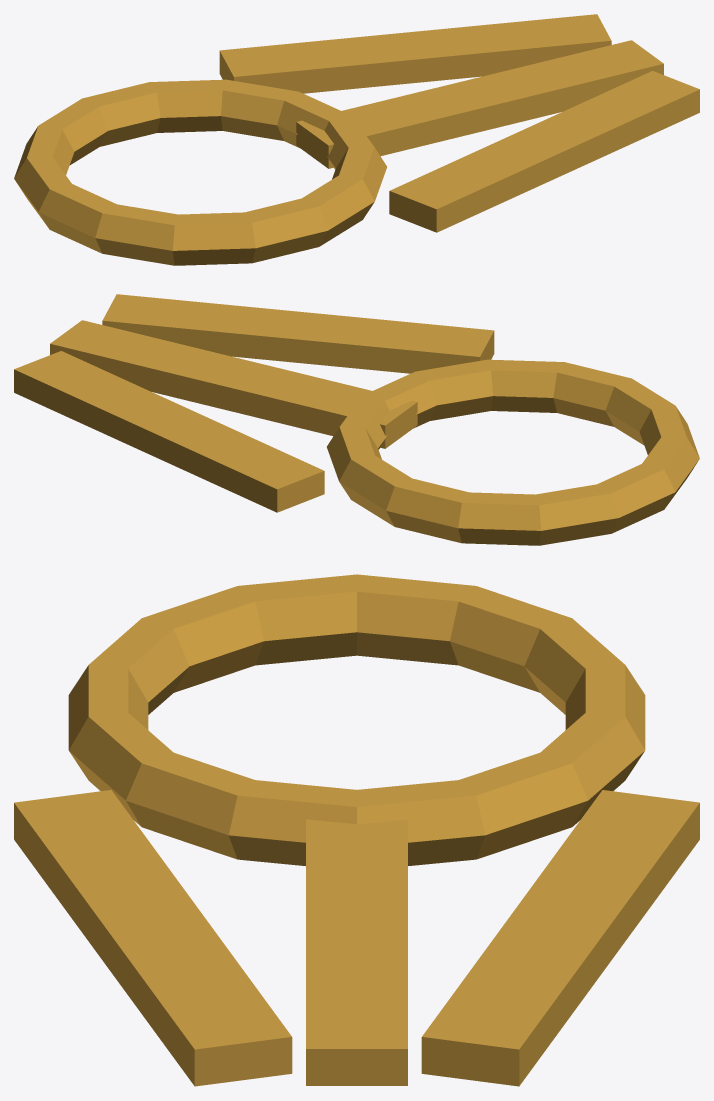
File: carwash_meter_key.glb
3 renders of one model, top to bottom at view 1: azimuth 30°, elevation 25°; view 2: azimuth 150°, elevation 25°; view 3: azimuth 270°, elevation 25°, orthographic. The views are drawn at different scales.
Parts seen in each view (by area): view 1: key_meter_key_brass, ring_meter_key_brass; view 2: key_meter_key_brass, ring_meter_key_brass; view 3: key_meter_key_brass, ring_meter_key_brass.
Boxes of the visible parts, x1,y1,x2,y2 form: key_meter_key_brass: (219,14,699,232); ring_meter_key_brass: (14,79,386,265); key_meter_key_brass: (14,294,494,512); ring_meter_key_brass: (327,359,699,545); key_meter_key_brass: (14,790,699,1086); ring_meter_key_brass: (68,574,645,865).
Bounding box in the file's own units: 0.2183 × 0.0139 × 0.1346.
